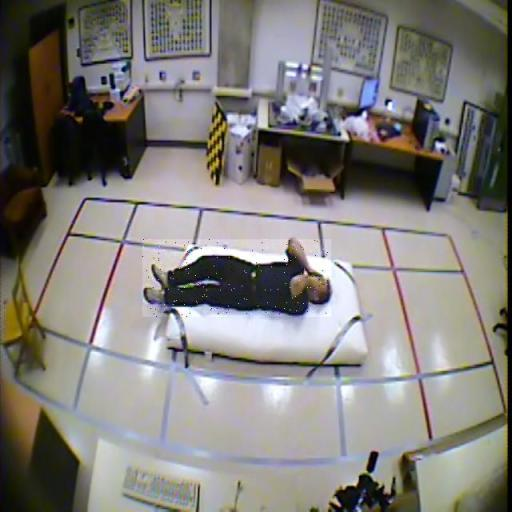Fall: (143, 239, 332, 317)
